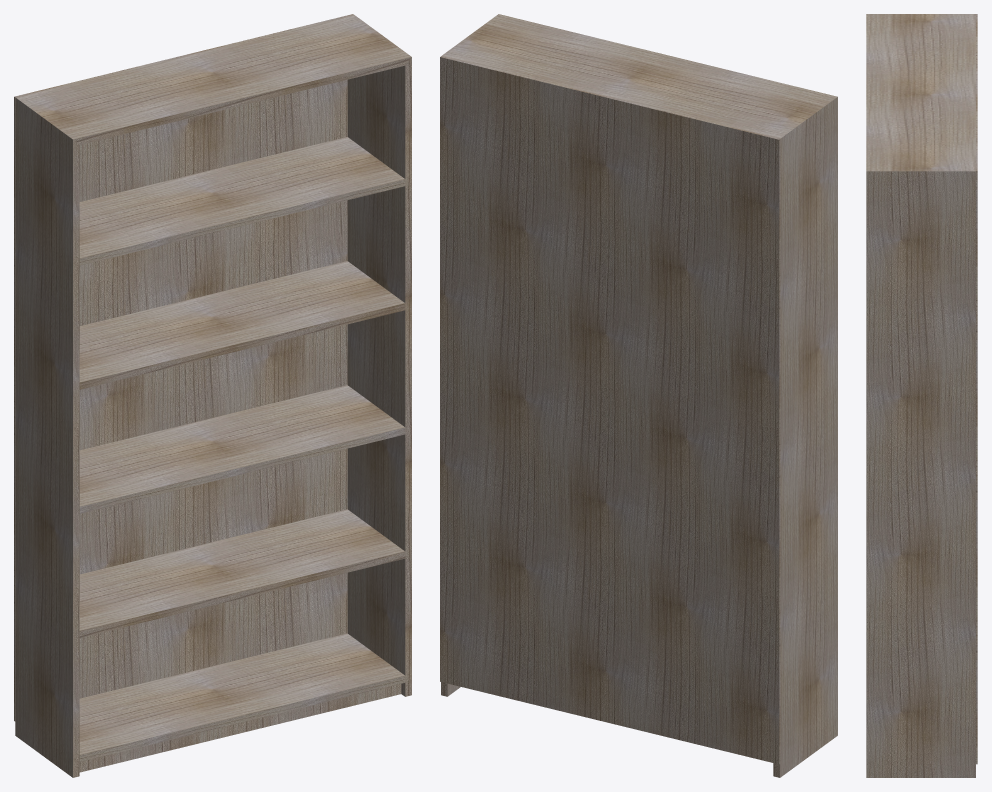
Rendered from shelf.glb.
3 views of the same model, side by side, from view 1: azimuth 30°, elevation 25°; view 2: azimuth 150°, elevation 25°; view 3: azimuth 270°, elevation 25° (orthographic). The views are drawn at different scales.
Visible parts, largest first — view 1: regal_0; view 2: regal_0; view 3: regal_0.
Part boxes in pixels (<box>): regal_0: <box>14,14,411,777</box>; regal_0: <box>440,14,837,777</box>; regal_0: <box>866,14,977,777</box>.
Bounding box in the file's own units: 1 × 1.8 × 0.3.
1 material, 1 textured.
